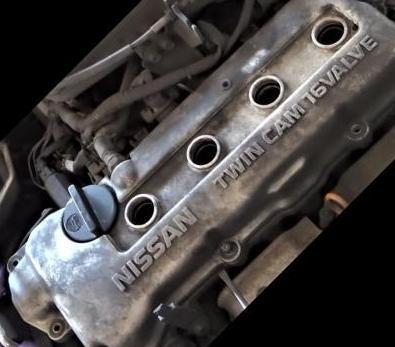hole: (348, 120, 364, 137), (218, 76, 233, 91), (50, 320, 63, 334), (9, 257, 20, 268)
